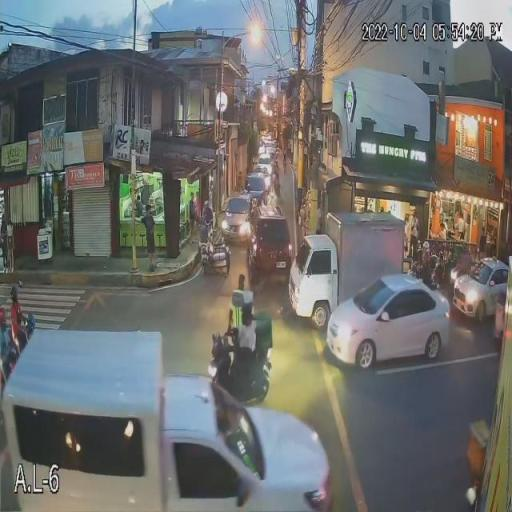helmet: (10, 286, 19, 305), (0, 308, 7, 328)
motorcycle: (206, 330, 274, 404), (198, 229, 230, 275), (28, 312, 40, 336)
rider: (224, 302, 257, 391), (10, 304, 28, 348), (0, 327, 15, 375)
